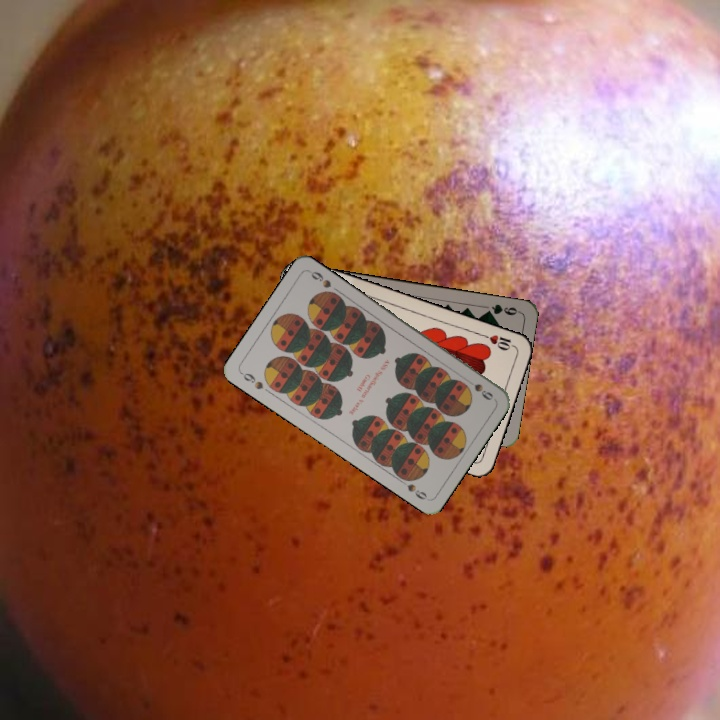G9: (481, 300, 522, 318)
H10: (478, 330, 518, 353)
S9: (461, 374, 496, 403), (237, 368, 266, 392)
